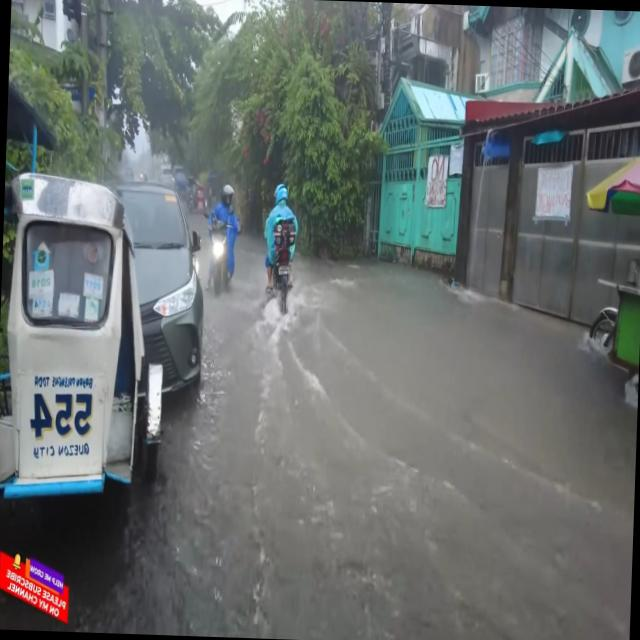half: (217, 177, 237, 210), (271, 178, 290, 212)
